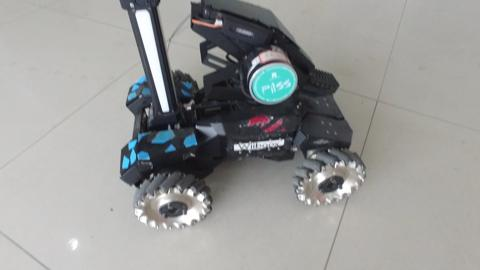chariot: (83, 7, 366, 229)
